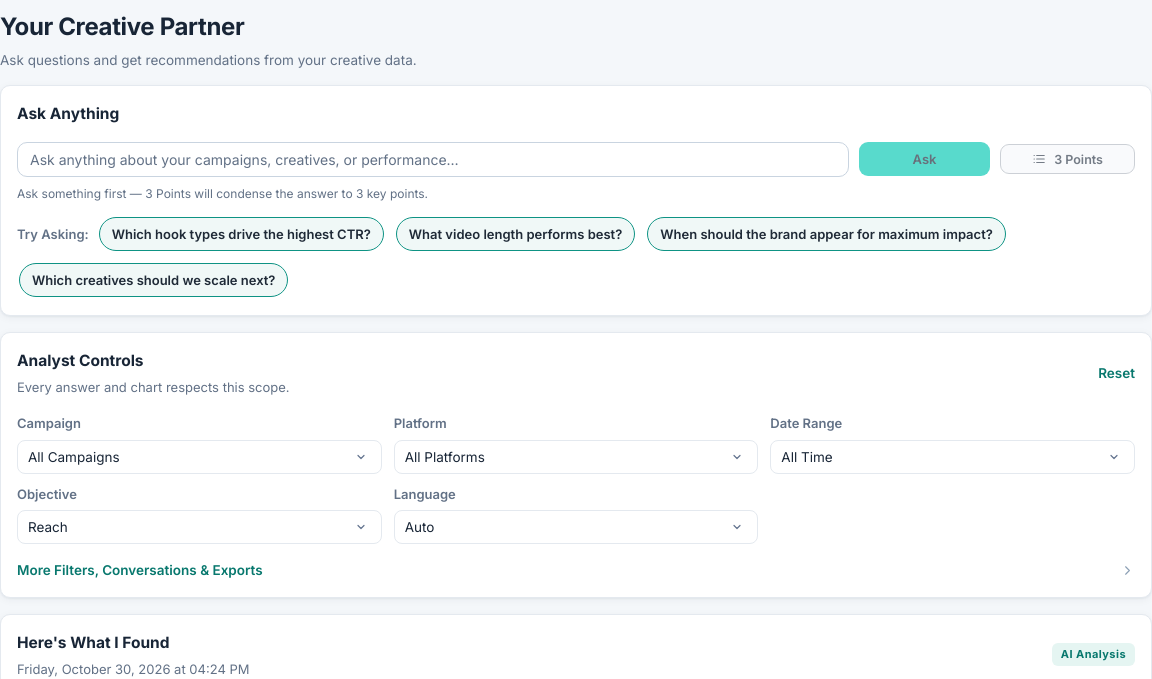
Test: AnalystPage › clears chat state when the account key changes
Replace the text in the field named "Ask Foap Analyst" with "hook rate for each creative, goal was reach": (433, 159) [17, 142, 849, 177]
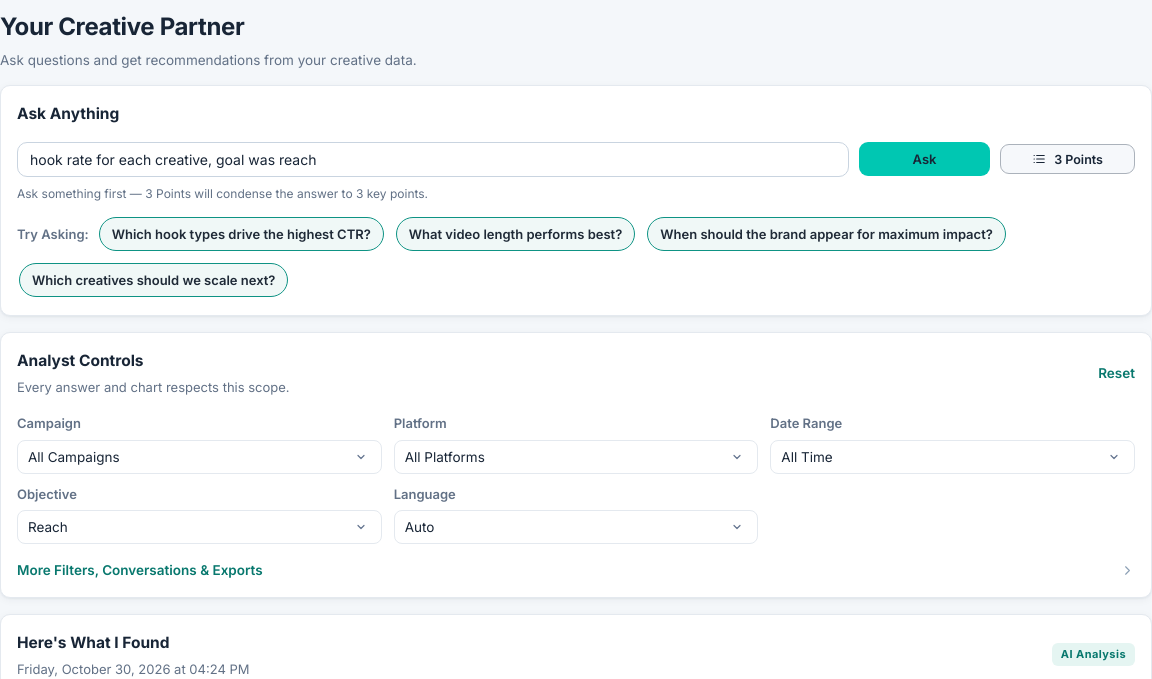
Click the button "Ask": click(925, 159) [859, 142, 990, 176]
(page scrolled)
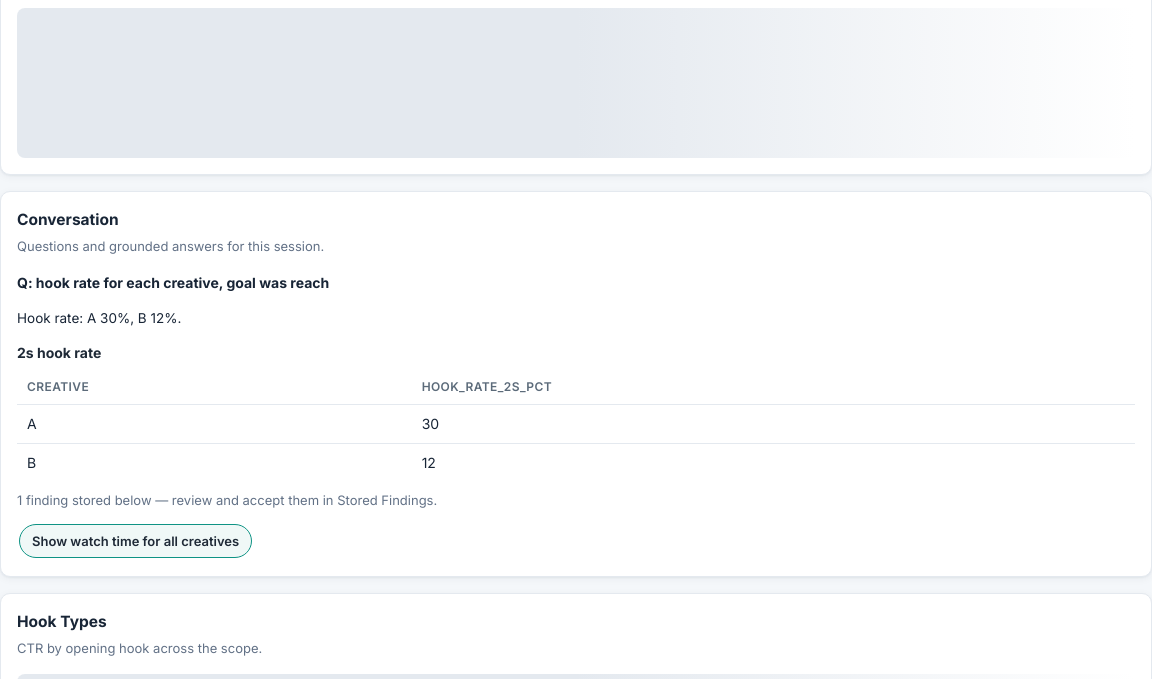
expect the text "Hook rate: A 30%, B 12%." is shown: met, box [17, 310, 181, 326]
